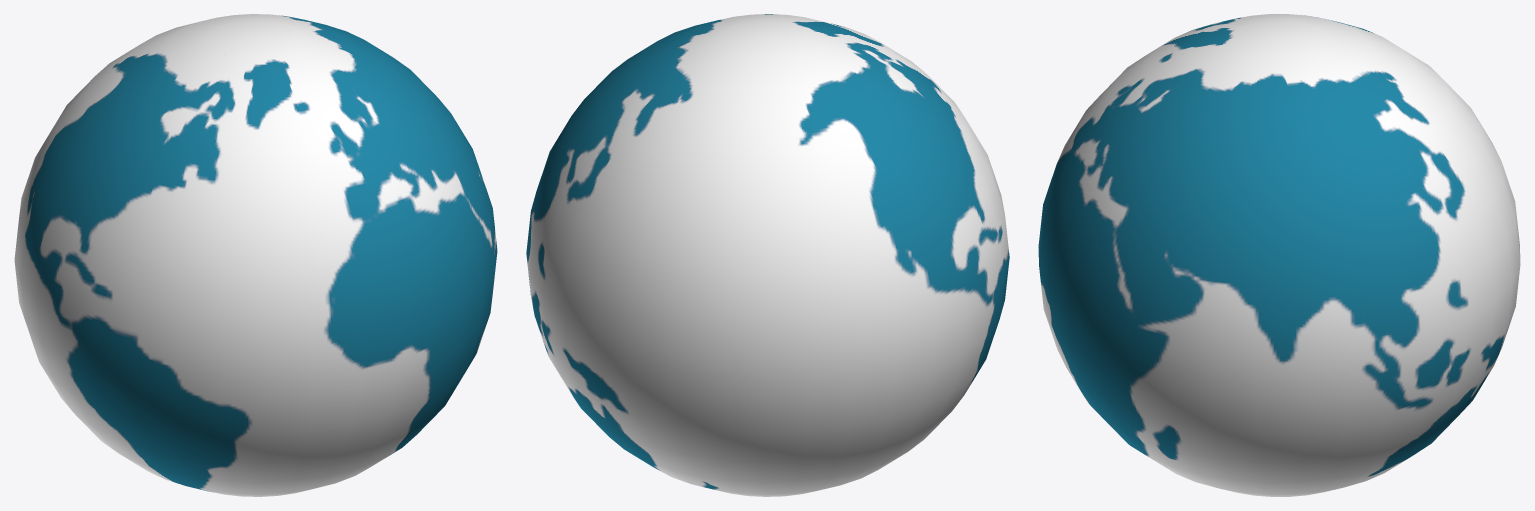
The model's file is globe.glb.
The picture shows the model from 3 angles, left to right: view 1: azimuth 30°, elevation 25°; view 2: azimuth 150°, elevation 25°; view 3: azimuth 270°, elevation 25°; orthographic projection.
Visible parts, largest first — view 1: Sphere.001; view 2: Sphere.001; view 3: Sphere.001.
Part boxes in pixels (box(x1,y1,x2,y2)): Sphere.001: box(14, 14, 497, 496); Sphere.001: box(526, 14, 1009, 496); Sphere.001: box(1038, 14, 1520, 496).
Bounding box in the file's own units: 1.99 × 2 × 1.99.
1 material, 1 textured.
